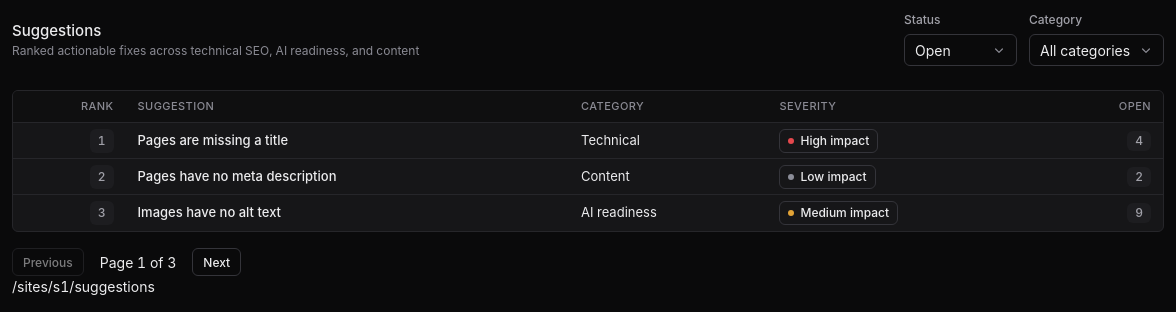
Scenario: a list that spans pages can move to the next page
This screenshot has width=1176, height=312.
Check: the text "Page 1 of 3" is shown, box [100,252,176,272]
Check: the button with aria-label "Previous page" is disabled, box [12,248,84,276]
Click the button with aria-label "Next page" at point(217, 262), box [192,248,241,276]
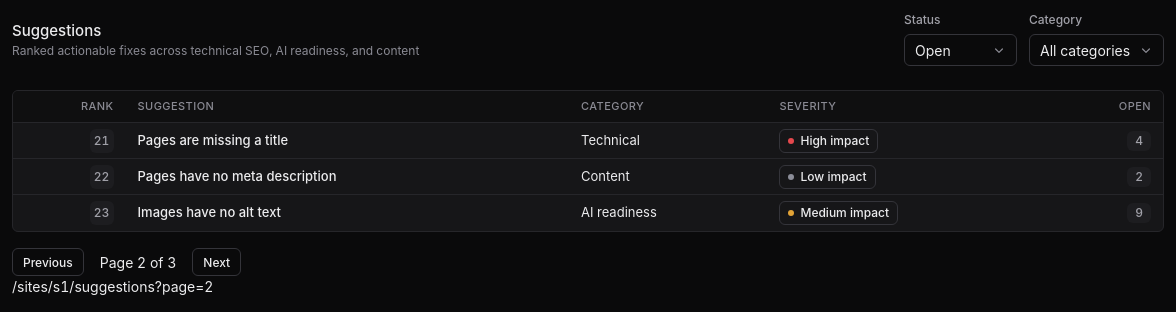
Check: the text "Page 2 of 3" is shown, box [100,252,176,272]
Check: the text with test id "where" shows "page=2", box [12,278,213,295]
